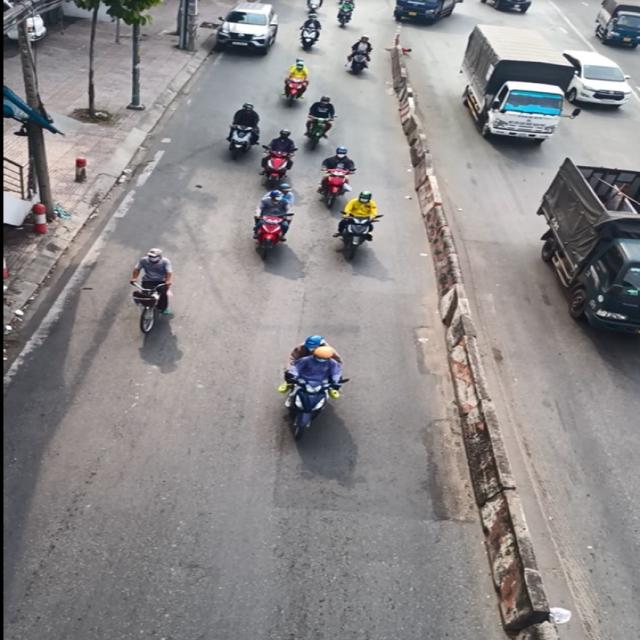car: (218, 0, 280, 57)
motor: (258, 332, 360, 447), (108, 242, 190, 339), (242, 184, 302, 260), (336, 188, 382, 270)
truck: (454, 30, 574, 148)
